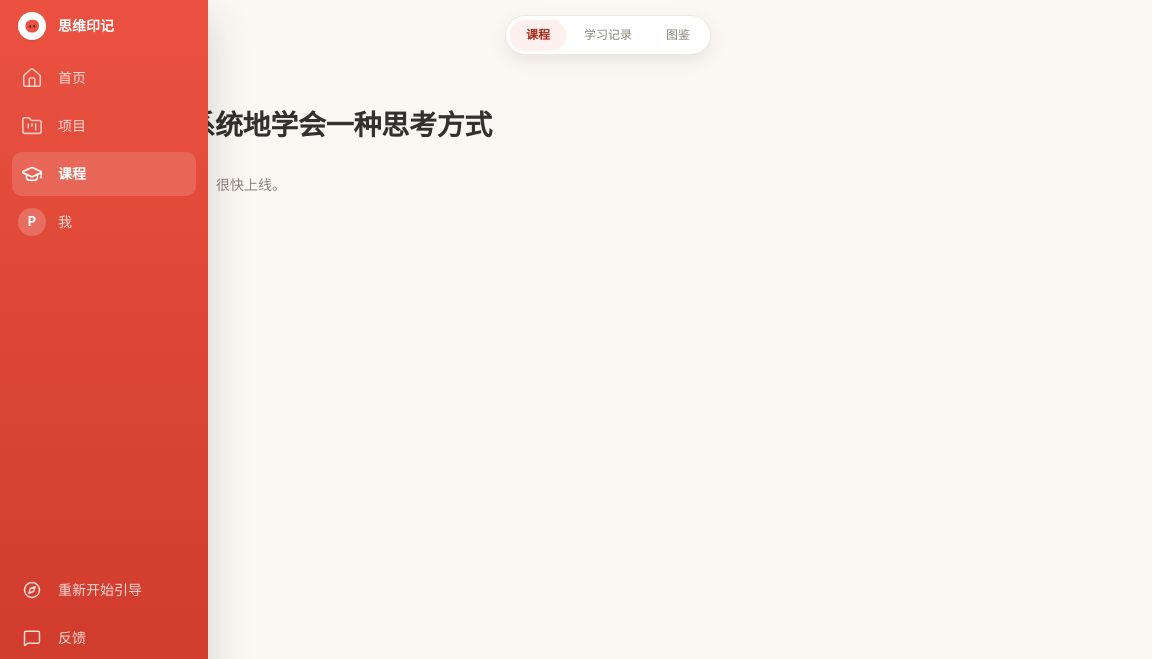
Scenario: StudentApp › switches to 我 and renders 设置 directly
Click the text "P": (32, 222) [18,208,46,236]
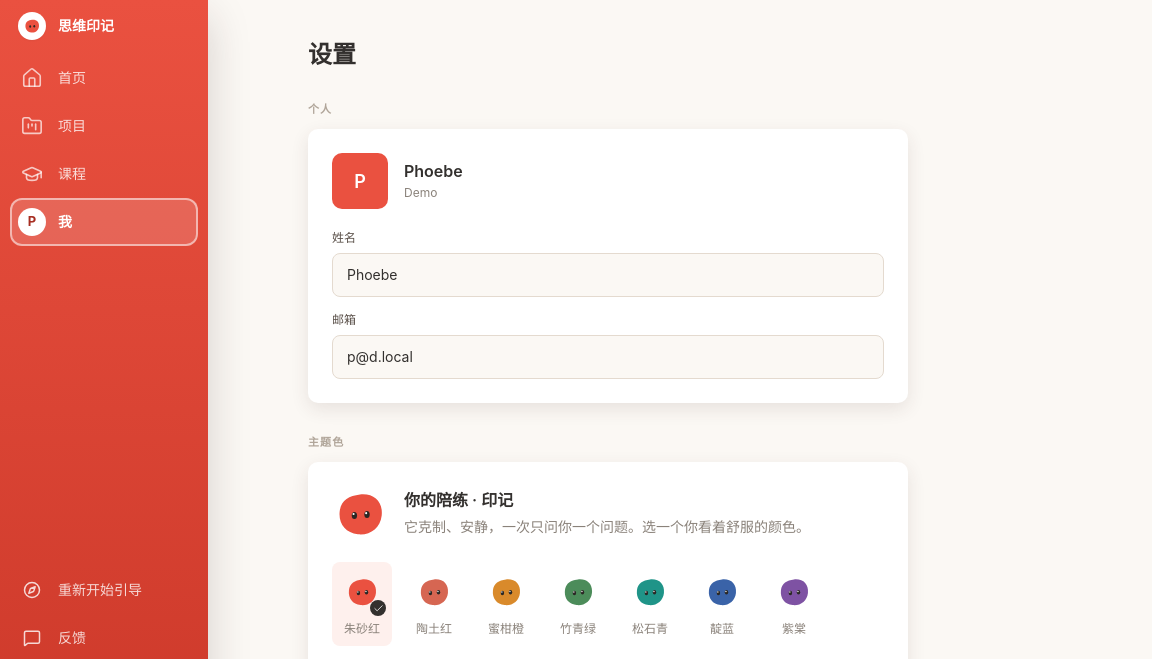
Now the heading "设置" is shown, box [308,40,356,69]
